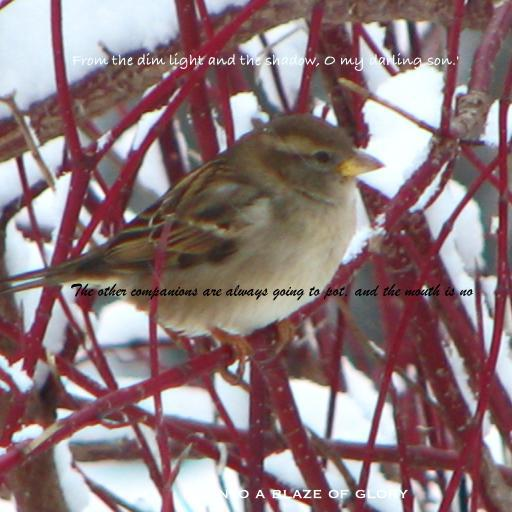Bradley Hand: (71, 53, 459, 71)
Brush Script MT: (69, 283, 473, 301)
Copperplate: (210, 488, 408, 499)
